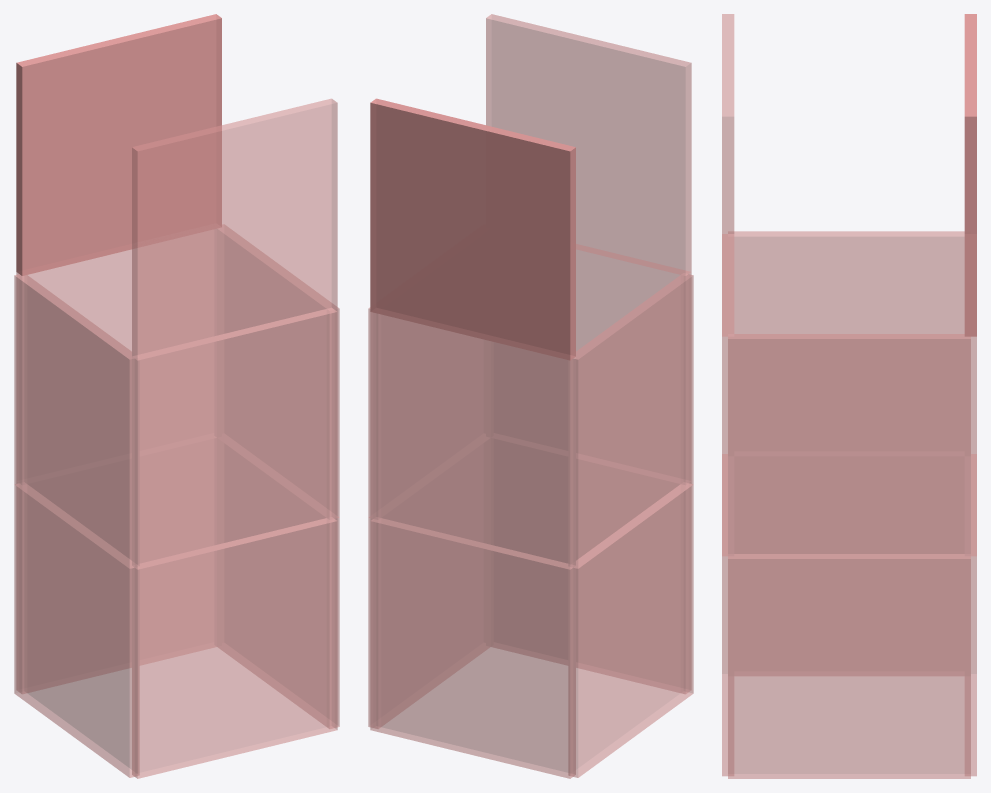
The model's file is torre_step11.glb.
The picture shows the model from 3 angles, left to right: view 1: azimuth 30°, elevation 25°; view 2: azimuth 150°, elevation 25°; view 3: azimuth 270°, elevation 25°; orthographic projection. The views are drawn at different scales.
Parts seen in each view (by area): view 1: qS.002, qN.002, qN.001, qN, qS.001, qS, qW.001, qW, qE.001, qE; view 2: qS.002, qS, qS.001, qN, qN.002, qN.001, qW.001, qW, qE, qE.001; view 3: qE.001, qE, qW.001, qW, qS.002, qN.002, qN.001, qN, qS, qS.001.
Part boxes in pixels (left/top/right/bottom): qS.002: left=16, top=14, right=221, bottom=275; qN.002: left=132, top=98, right=337, bottom=360; qN.001: left=132, top=308, right=337, bottom=569; qN: left=132, top=518, right=337, bottom=778; qS.001: left=16, top=230, right=215, bottom=484; qS: left=16, top=439, right=216, bottom=693; qW.001: left=14, top=274, right=139, bottom=568; qW: left=14, top=483, right=139, bottom=777; qE.001: left=219, top=224, right=339, bottom=519; qE: left=217, top=442, right=339, bottom=728; qS.002: left=370, top=98, right=575, bottom=360; qS: left=370, top=518, right=575, bottom=778; qS.001: left=370, top=312, right=575, bottom=569; qN: left=491, top=439, right=691, bottom=693; qN.002: left=486, top=14, right=691, bottom=275; qN.001: left=491, top=244, right=691, bottom=484; qW.001: left=568, top=274, right=693, bottom=568; qW: left=568, top=483, right=693, bottom=777; qE: left=368, top=442, right=490, bottom=728; qE.001: left=368, top=307, right=488, bottom=519; qE.001: left=728, top=334, right=970, bottom=558; qE: left=728, top=554, right=970, bottom=778; qW.001: left=728, top=231, right=964, bottom=455; qW: left=734, top=456, right=964, bottom=675; qS.002: left=964, top=14, right=976, bottom=336; qN.002: left=722, top=14, right=734, bottom=336; qN.001: left=722, top=234, right=733, bottom=556; qN: left=722, top=454, right=733, bottom=776; qS: left=965, top=454, right=976, bottom=776; qS.001: left=965, top=336, right=976, bottom=556.
Bounding box in the file's own units: 1.05 × 3 × 1.05.
